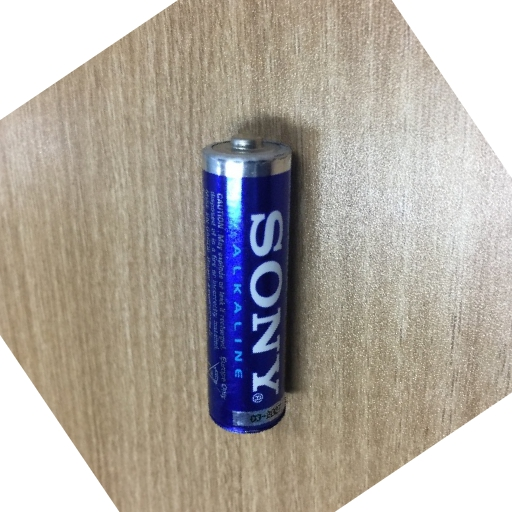Battery_0: (188, 118, 317, 450)
